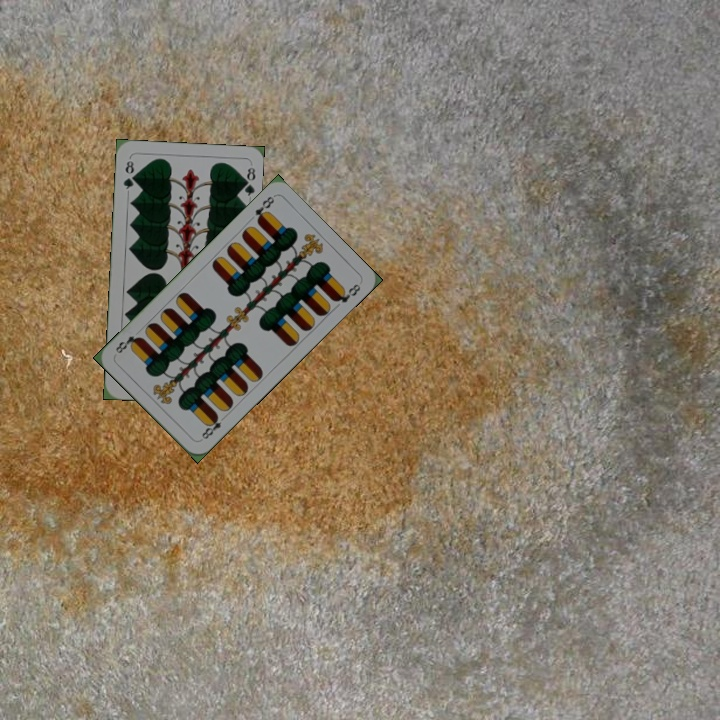E8: (196, 410, 229, 443), (251, 192, 277, 226)
G8: (119, 156, 137, 192)
